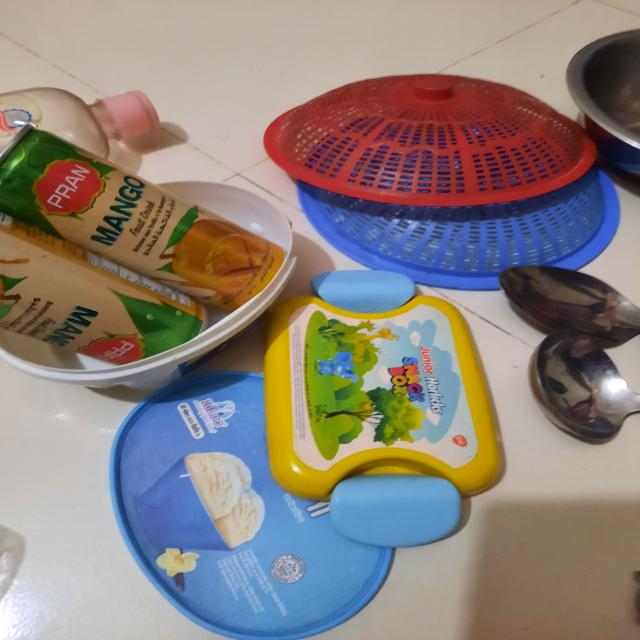Metal: (499, 253, 640, 450)
Plastics: (143, 286, 506, 640), (286, 62, 594, 279)
can: (0, 125, 217, 364)
